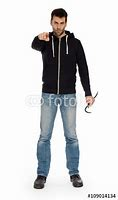crowbar: (84, 90, 99, 114)
